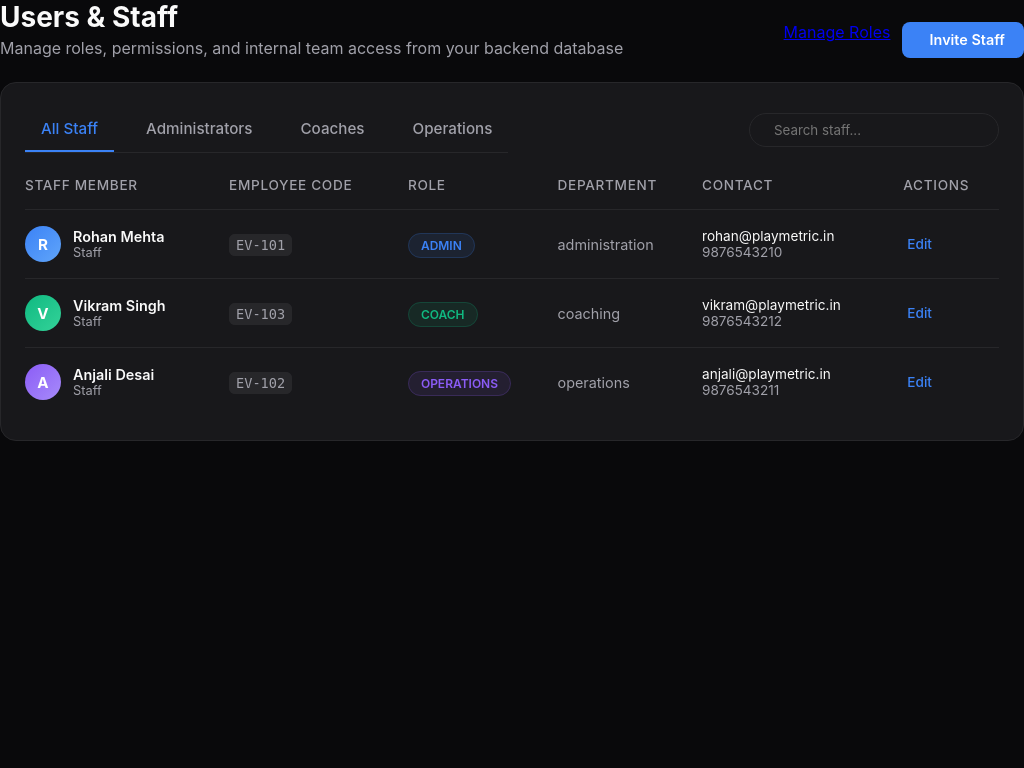
Users Page Directory tests › should lock organization dropdown selector to the parent org for normal employee
The image size is (1024, 768).
Check: the text "Rohan Mehta" is shown, box [73,228,164,245]
Step 1. Click the button "Invite Staff" → (963, 40), box [902,22,1023,58]
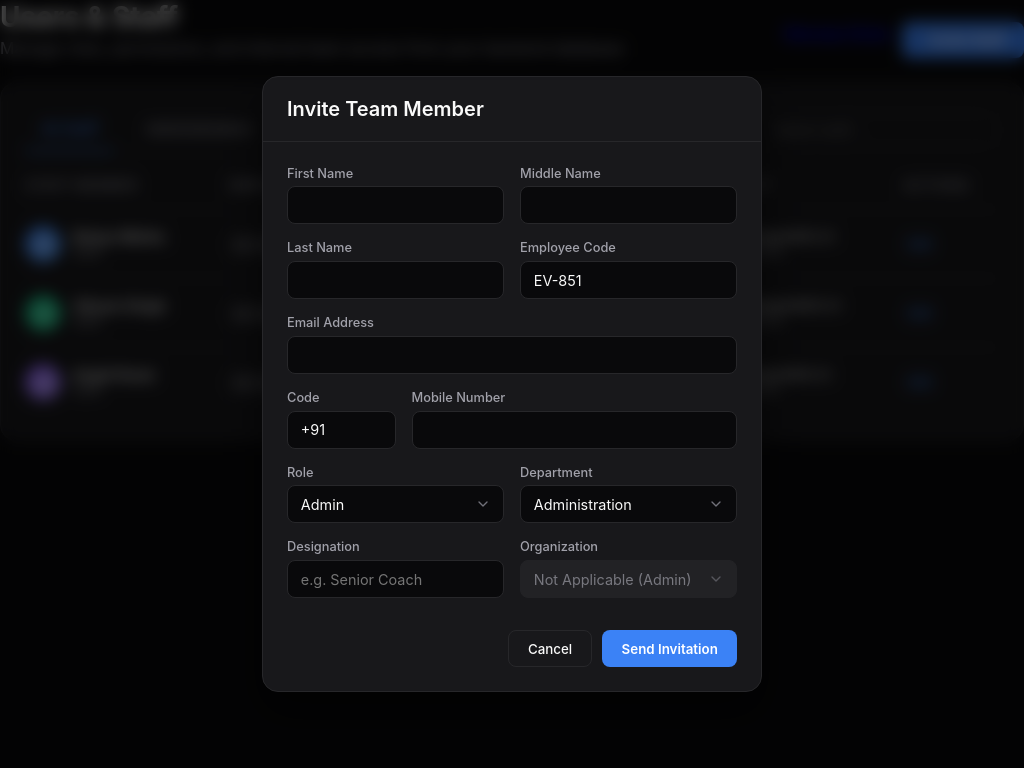
Select coach to enable the organization dropdown
Step 2. Select "Coach" in the dropdown labelled "Role" → (396, 504), box [287,485,504,524]
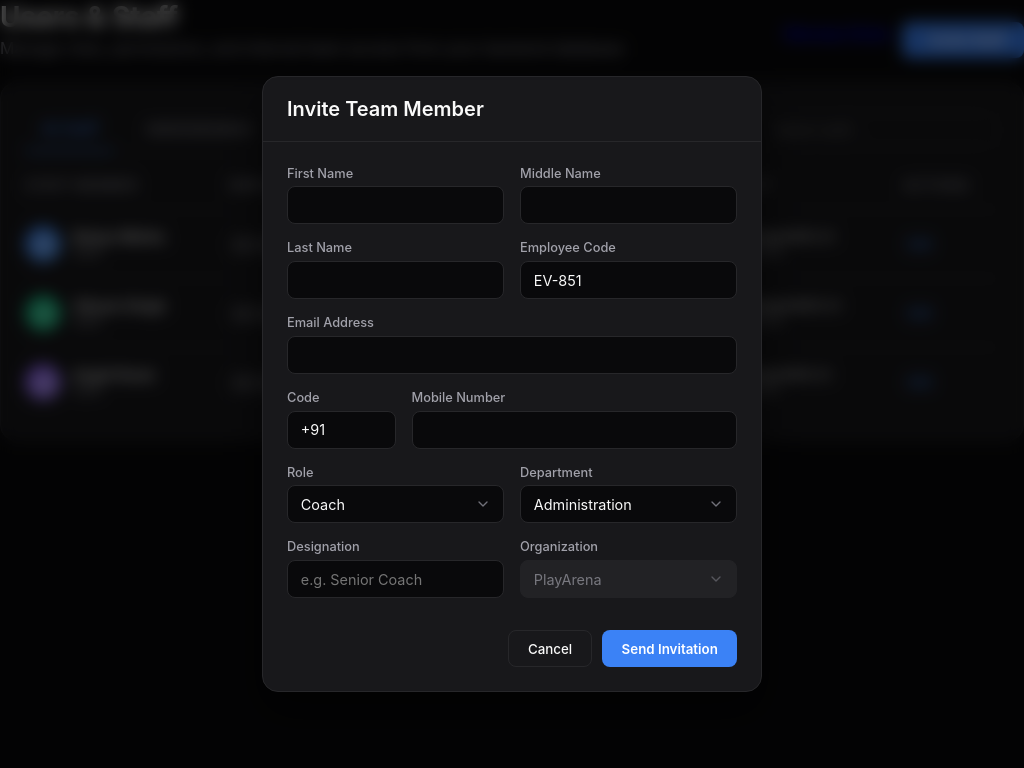
Check: the dropdown labelled "Organization" is disabled, box [520,560,737,598]
Check: the dropdown labelled "Organization" shows "PlayArena", box [520,560,737,598]
